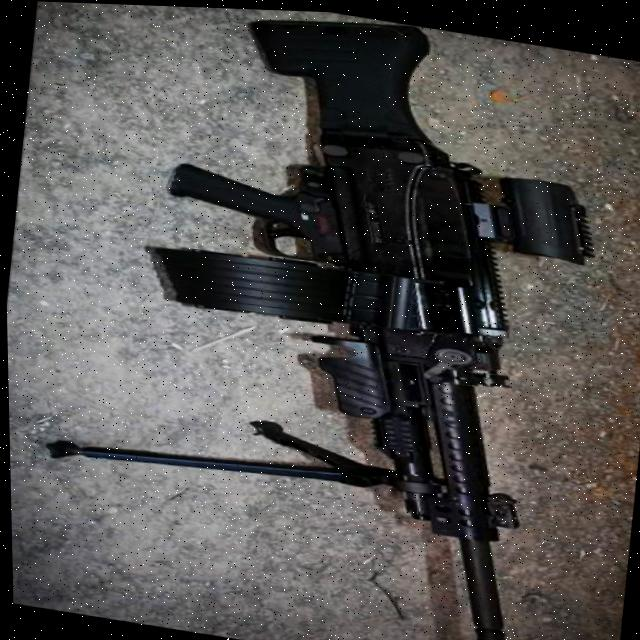firearm: (107, 3, 619, 640)
